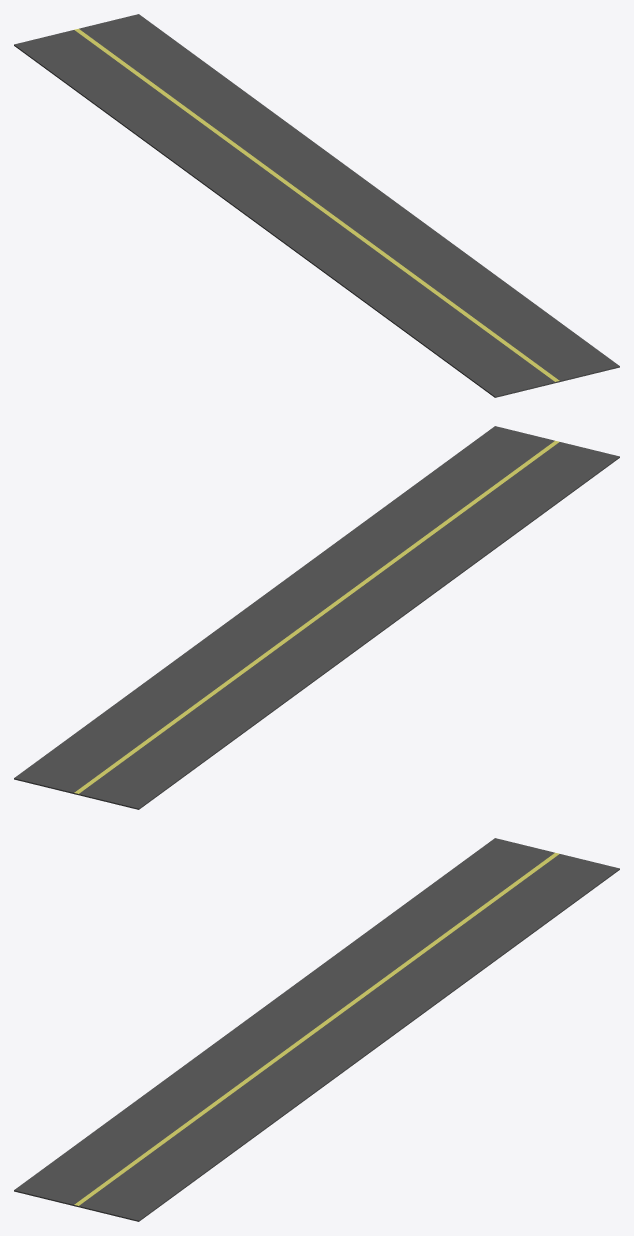
Rendered from caminoentrada.gltf.
The picture shows the model from 3 angles, top to bottom: view 1: azimuth 30°, elevation 25°; view 2: azimuth 150°, elevation 25°; view 3: azimuth 330°, elevation 25°; orthographic projection.
Parts seen in each view (by area): view 1: Cube; view 2: Cube; view 3: Cube.
Part boxes in pixels (bbox=[...]): Cube: bbox=[14, 14, 619, 397]; Cube: bbox=[14, 426, 619, 809]; Cube: bbox=[14, 838, 619, 1221].
Size of the model in its own units: 6 by 0.06 by 40.02.
